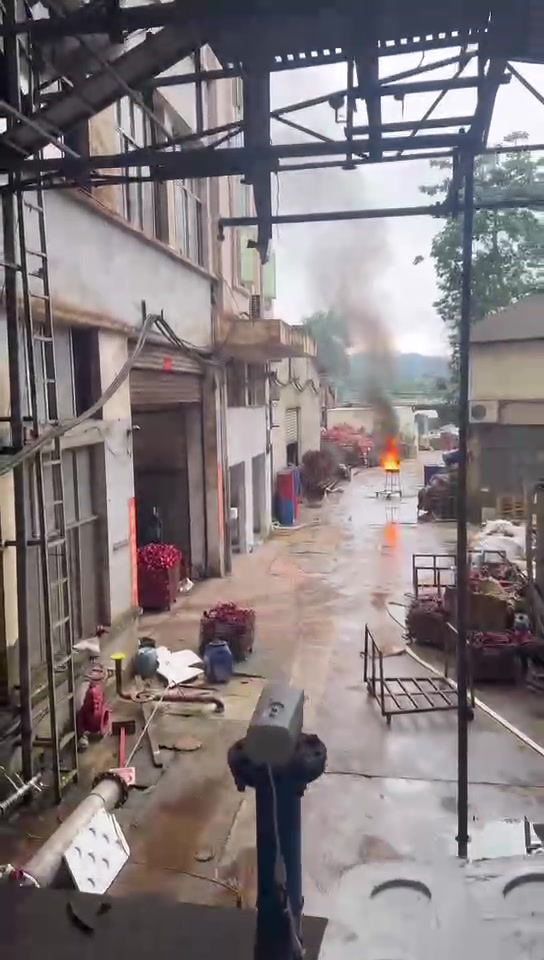fire: (383, 445, 399, 469)
